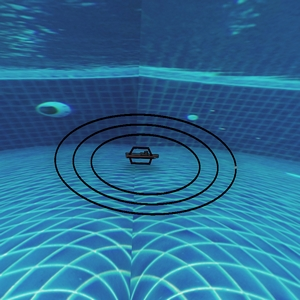circle: (47, 104, 244, 244)
